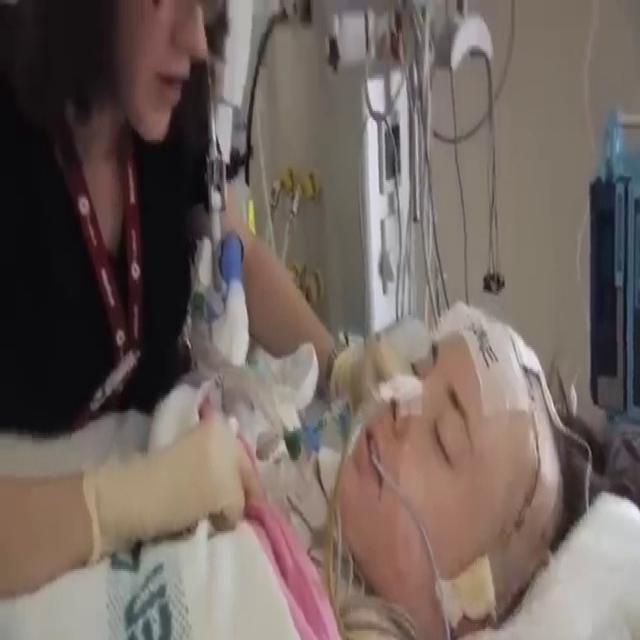monitor: (588, 169, 639, 427)
nurse: (0, 0, 342, 598)
patient: (1, 298, 636, 638)
